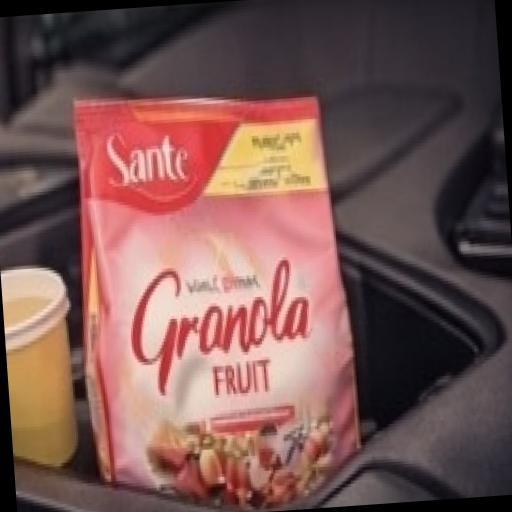granola: (13, 53, 412, 512)
